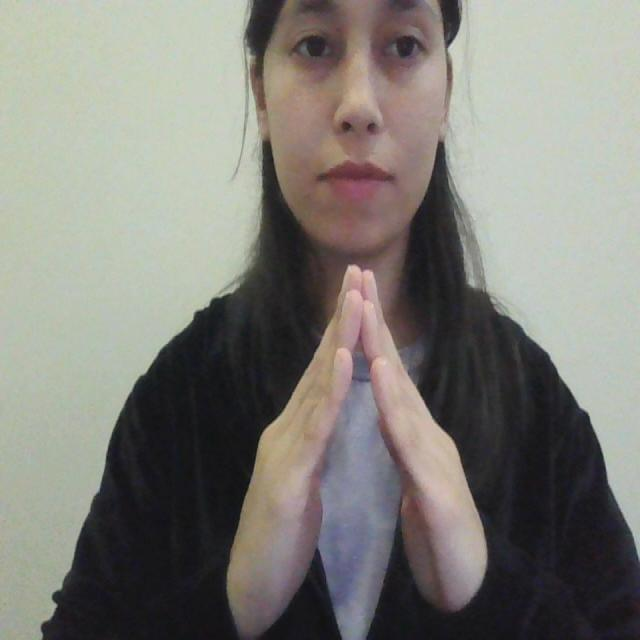Ev: (219, 261, 491, 636)
